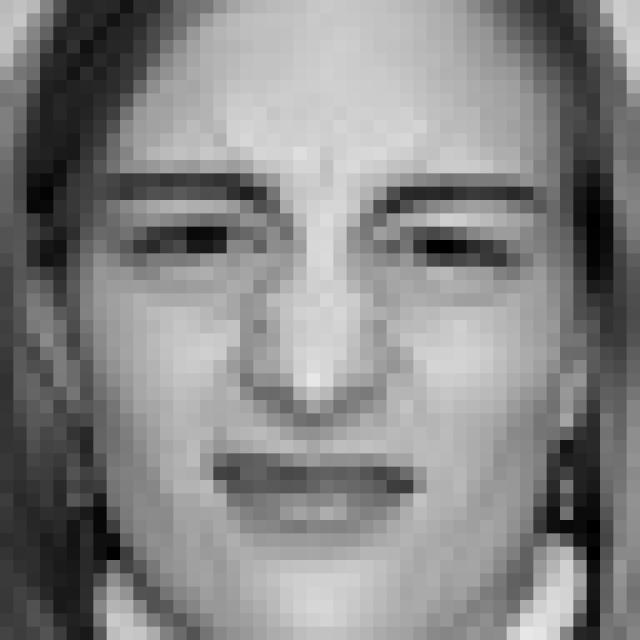disgust: (107, 164, 550, 549)
